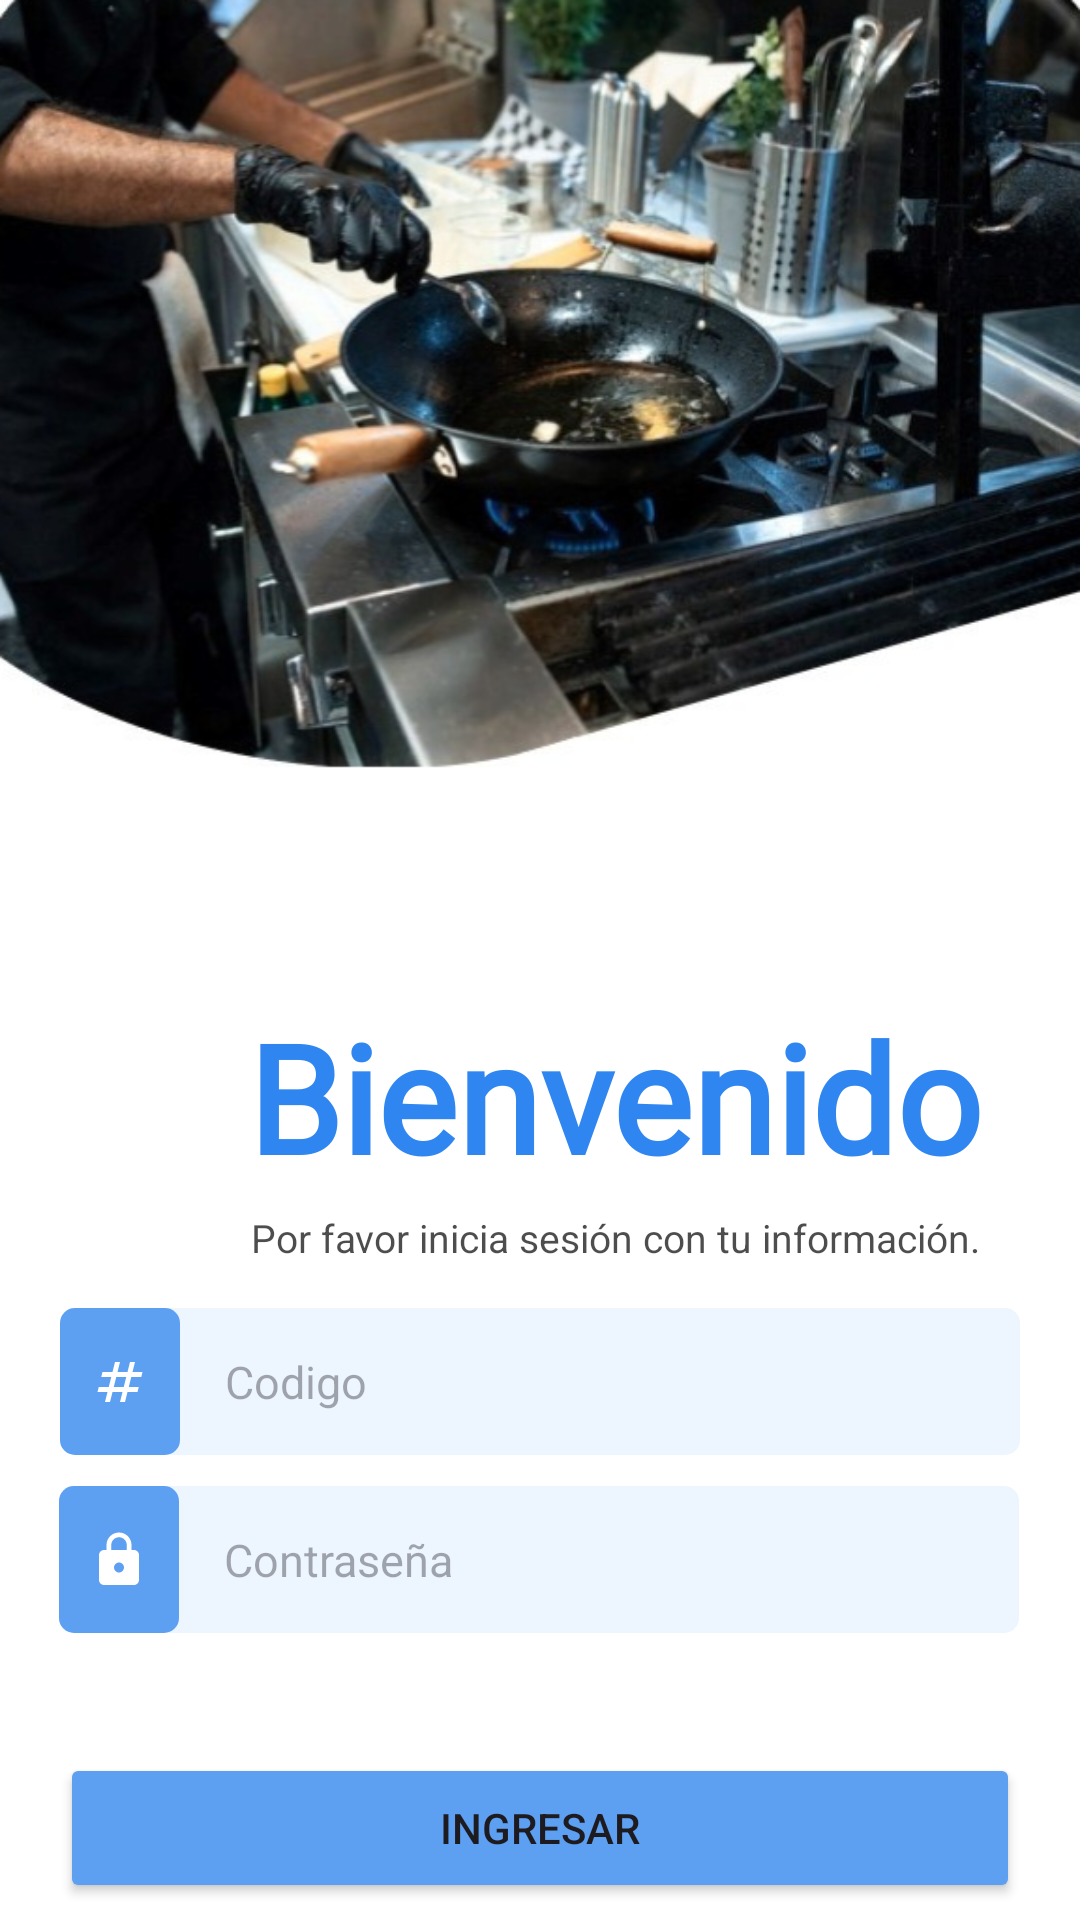

Named icons in this screenshot (1080*1920) and their centers, [x,y]:
lock: [119,1559]
